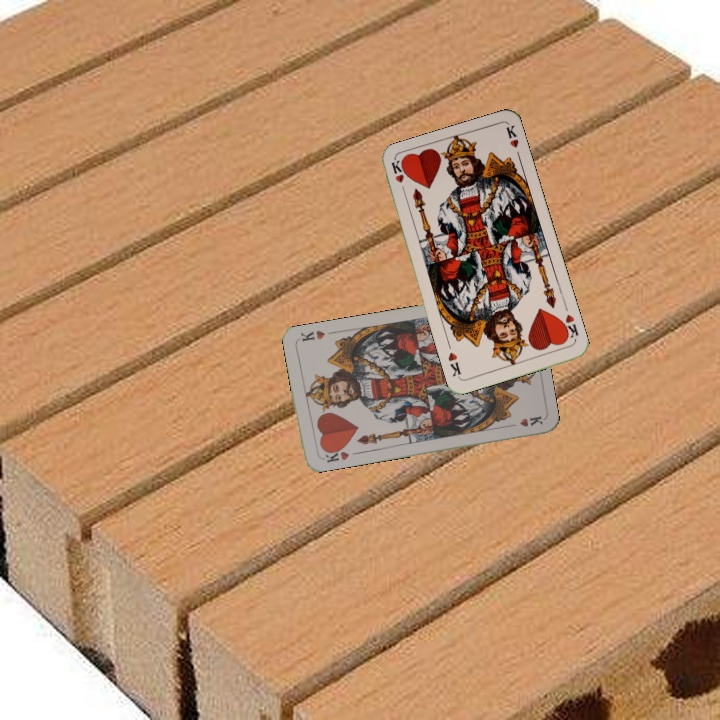HK: (387, 157, 408, 198), (557, 310, 581, 343), (317, 443, 351, 465)
